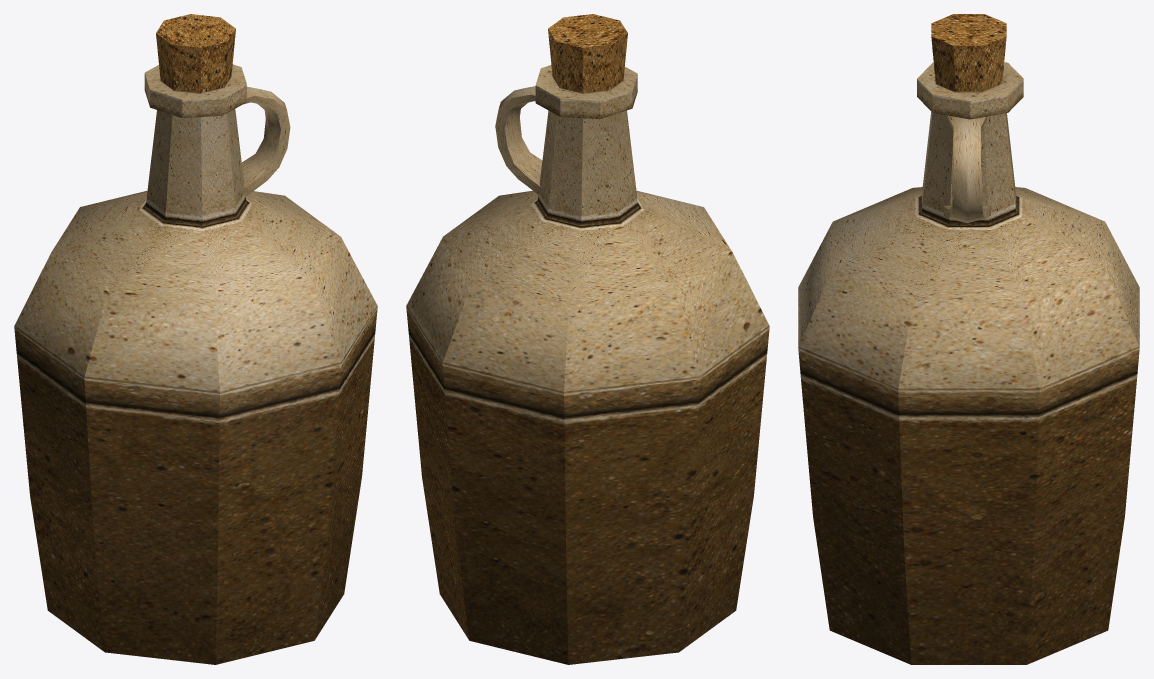
Rendered from mm9_deco_jug1.glb.
The picture shows the model from 3 angles, left to right: view 1: azimuth 30°, elevation 25°; view 2: azimuth 150°, elevation 25°; view 3: azimuth 270°, elevation 25°; orthographic projection.
Parts seen in each view (by area): view 1: Jug1; view 2: Jug1; view 3: Jug1.
Boxes of the visible parts, x1=… form: Jug1: x1=14, y1=14, x2=377, y2=664; Jug1: x1=406, y1=14, x2=769, y2=664; Jug1: x1=798, y1=14, x2=1139, y2=664.
Size of the model in its own units: 0.3911 by 0.7278 by 0.3911.
2 materials, 2 textured.
